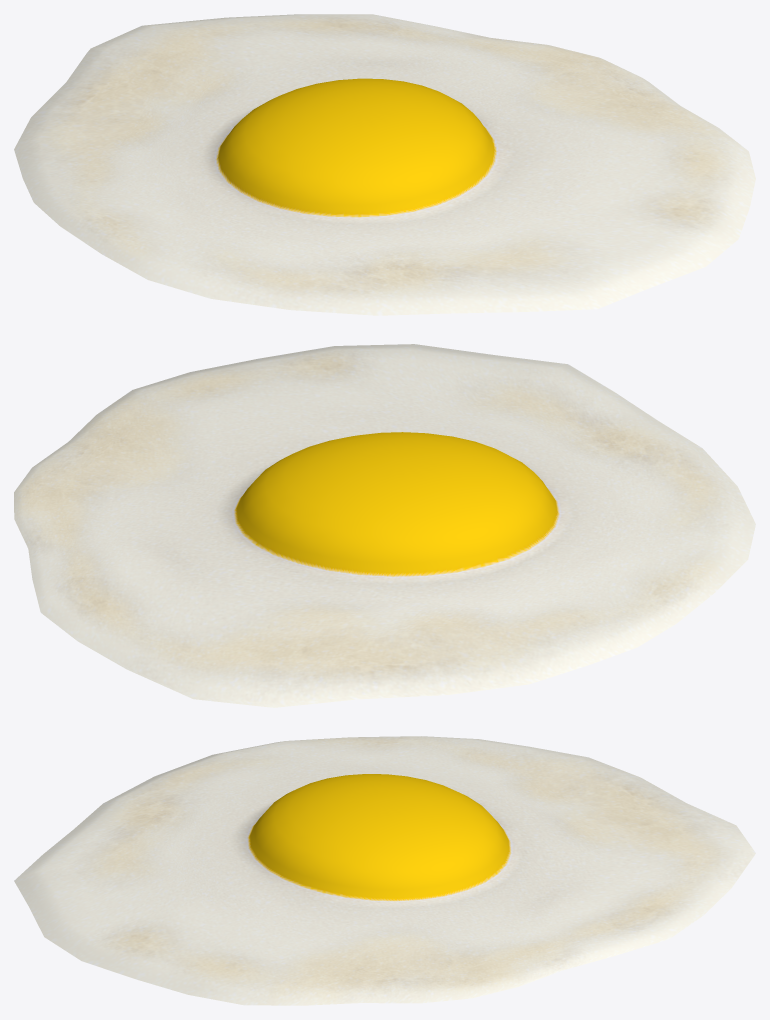
Rendered from Egg_Cracked_24.obj.
The picture shows the model from 3 angles, top to bottom: view 1: azimuth 30°, elevation 25°; view 2: azimuth 150°, elevation 25°; view 3: azimuth 270°, elevation 25°; orthographic projection. The views are drawn at different scales.
Parts seen in each view (by area): view 1: fried_egg_23; view 2: fried_egg_23; view 3: fried_egg_23.
Part boxes in pixels (bbox=[...]): fried_egg_23: bbox=[14, 14, 755, 315]; fried_egg_23: bbox=[14, 344, 755, 707]; fried_egg_23: bbox=[14, 736, 755, 1005].
Size of the model in its own units: 0.0989 by 0.0107 by 0.1154.
